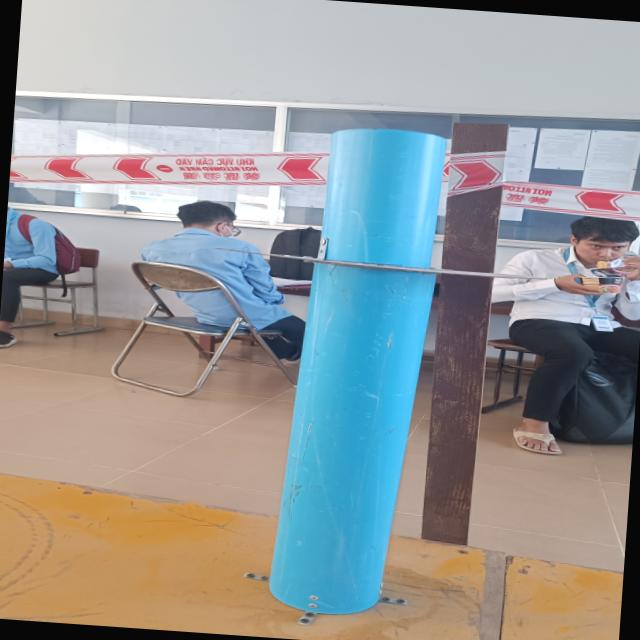pole: (195, 112, 565, 410)
